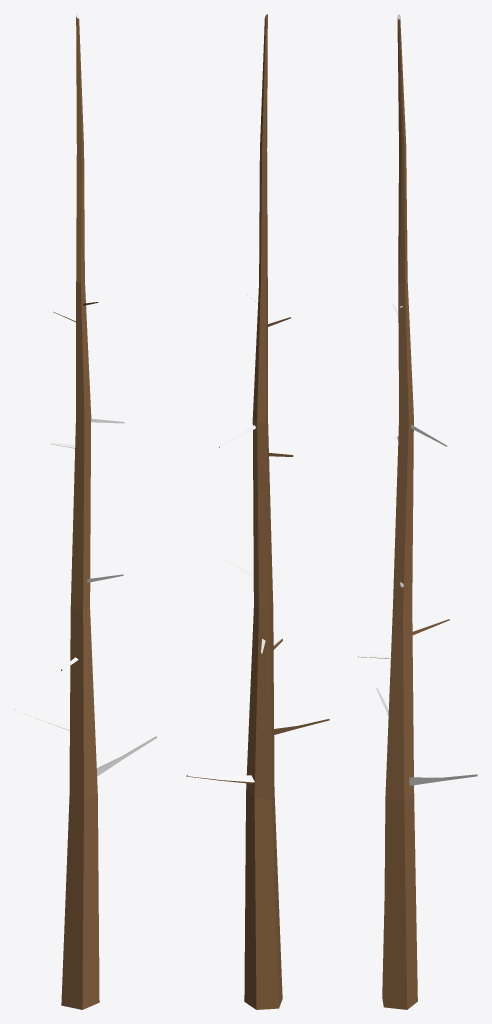
The model's file is Pine_Tree_NoLeaves_l_Snow_BT_01.fbx.
3 views of the same model, side by side, from view 1: azimuth 30°, elevation 25°; view 2: azimuth 210°, elevation 25°; view 3: azimuth 330°, elevation 25° (orthographic).
Visible parts, largest first — view 1: Pine_Tree_NoLeaves_l_Snow_BT_01; view 2: Pine_Tree_NoLeaves_l_Snow_BT_01; view 3: Pine_Tree_NoLeaves_l_Snow_BT_01.
Boxes of the visible parts, x1,y1,x2,y2 form: Pine_Tree_NoLeaves_l_Snow_BT_01: (14,14,157,1009); Pine_Tree_NoLeaves_l_Snow_BT_01: (186,14,329,1009); Pine_Tree_NoLeaves_l_Snow_BT_01: (358,14,477,1009).
Size of the model in its own units: 253 by 1954 by 159.
